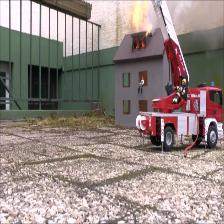fire: (129, 0, 152, 30)
